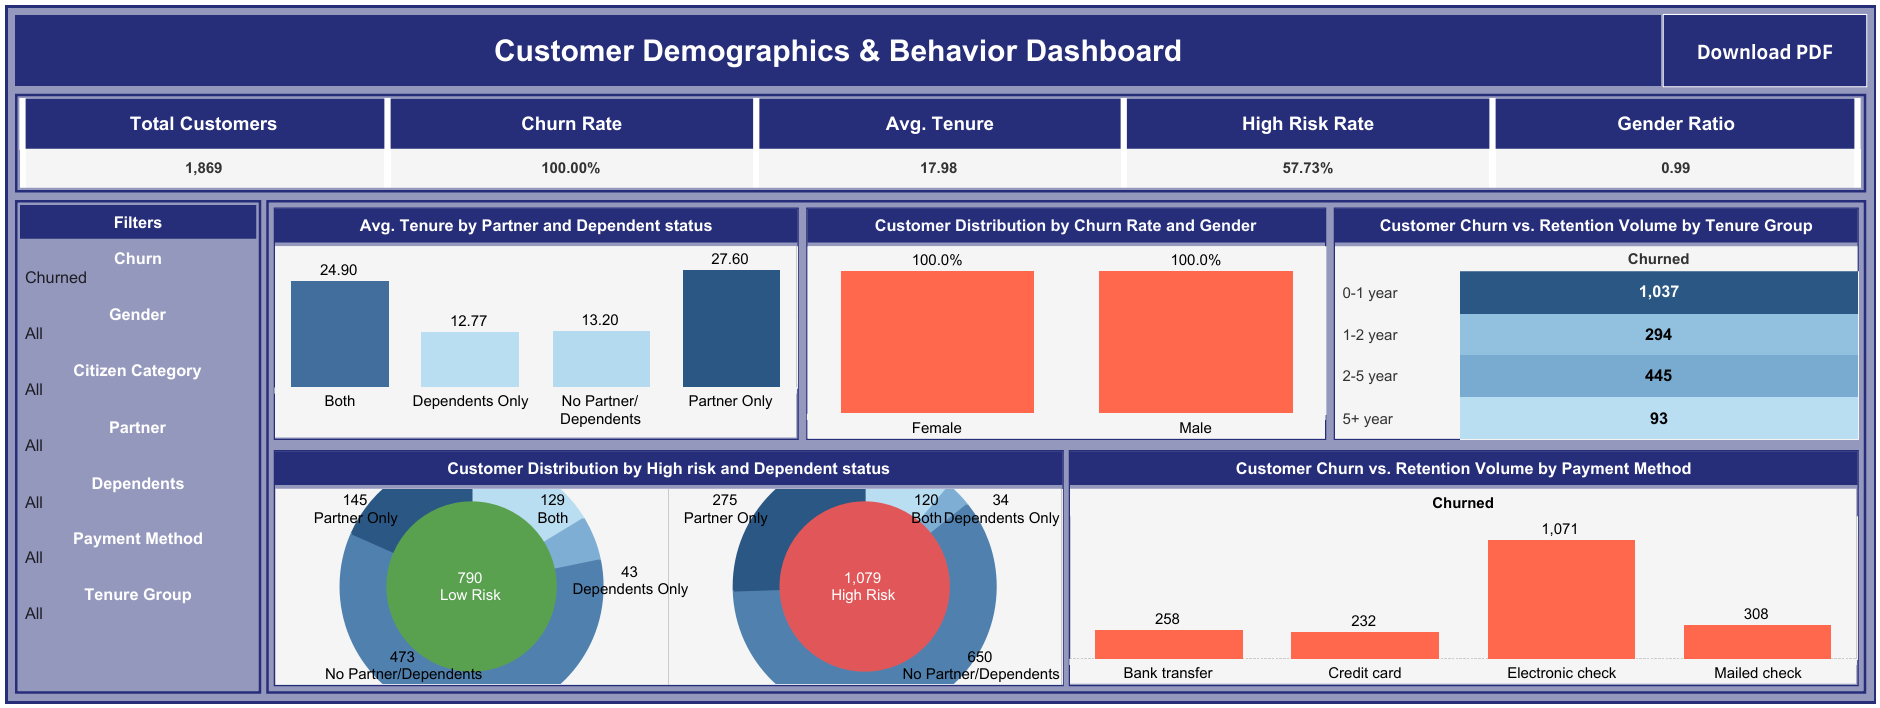

The dashboard page shown, as its layout file describes it:
{"tool":"tableau","page":{"name":"Customer Demographics & Behavior Dashboard","canvas":[1000,1000],"units":"permille","ordinal":0},"visuals":[{"type":"text","box":[6.6,12.9,887.8,69.3]},{"type":"dashboard-object","box":[894.4,12.9,99,69.3]},{"type":"worksheet","title":"Demographic KPIs","mark":"Automatic","box":[3.6,88.1,992.8,92.8]},{"type":"worksheet","title":" Demographic Filters","mark":"Automatic","box":[8.4,190.4,116.5,37.7]},{"type":"worksheet","title":"Avg. Tenure by Partner and Dependent status","mark":"Bar","rows":["tenure"],"cols":["Calculation_1014717340810600450"],"box":[131,192.7,286.7,390.1]},{"type":"worksheet","title":"Customer Distribution by Churn Rate and Gender","mark":"Automatic","cols":["gender"],"box":[417.6,192.7,286.7,390.1]},{"type":"worksheet","title":"Customer Churn vs. Retention Volume by Tenure Group","mark":"Square","rows":["TenureGroup"],"cols":["Calculation_1014717340783988736"],"box":[704.3,192.7,286.1,390.1]},{"type":"filter","title":" Demographic Filters","param":"[federated.0yk2zxe06brdsj1cgydwg0hetu3l].[none:Calculation_1014717340783988736:n","box":[8.4,228.1,116.5,75.5]},{"type":"filter","title":" Demographic Filters","param":"[federated.0yk2zxe06brdsj1cgydwg0hetu3l].[none:gender:nk]","box":[8.4,303.6,116.5,75.5]},{"type":"filter","title":" Demographic Filters","param":"[federated.0yk2zxe06brdsj1cgydwg0hetu3l].[none:Calculation_1447062903165952009:n","box":[8.4,379.2,116.5,75.5]},{"type":"filter","title":" Demographic Filters","param":"[federated.0yk2zxe06brdsj1cgydwg0hetu3l].[none:Partner:nk]","box":[8.4,454.7,116.5,75.5]},{"type":"filter","title":" Demographic Filters","param":"[federated.0yk2zxe06brdsj1cgydwg0hetu3l].[none:Dependents:nk]","box":[8.4,530.2,116.5,75.5]},{"type":"worksheet","title":"Customer Distribution by High risk and Dependent status","mark":"Pie","rows":["Calculation_1014717340790140929","Calculation_1014717340790140929"],"cols":["HighRisk"],"box":[131,587.5,429.7,393.7]},{"type":"worksheet","title":"Customer Churn vs. Retention Volume by Payment Method","mark":"Automatic","rows":["customerID"],"cols":["Calculation_1014717340783988736","PaymentMethod"],"box":[560.6,587.5,429.7,393.7]},{"type":"filter","title":" Demographic Filters","param":"[federated.0yk2zxe06brdsj1cgydwg0hetu3l].[none:PaymentMethod:nk]","box":[8.4,605.8,116.5,75.5]},{"type":"filter","title":" Demographic Filters","param":"[federated.0yk2zxe06brdsj1cgydwg0hetu3l].[none:TenureGroup:nk]","box":[8.4,681.4,116.5,75.5]},{"type":"blank","box":[8.4,756.9,116.5,75.5]},{"type":"blank","box":[8.4,832.5,116.5,75.5]},{"type":"blank","box":[8.4,908,116.5,75.5]}]}

Visuals, with their boxes on the dashboard's canvas, which has no fixed pixel size, in thousandths of its width and height (x1, y1, x2, y2). These are canvas units, not pixel positions in the 1880x708 screenshot, which may show the page scaled, cropped or inside an application window:
text: locate(7, 13, 894, 82)
dashboard-object: locate(894, 13, 993, 82)
"Demographic KPIs" worksheet: locate(4, 88, 996, 181)
" Demographic Filters" worksheet: locate(8, 190, 125, 228)
"Avg. Tenure by Partner and Dependent status" worksheet (Bar marks): locate(131, 193, 418, 583)
"Customer Distribution by Churn Rate and Gender" worksheet: locate(418, 193, 704, 583)
"Customer Churn vs. Retention Volume by Tenure Group" worksheet (Square marks): locate(704, 193, 990, 583)
" Demographic Filters" filter: locate(8, 228, 125, 304)
" Demographic Filters" filter: locate(8, 304, 125, 379)
" Demographic Filters" filter: locate(8, 379, 125, 455)
" Demographic Filters" filter: locate(8, 455, 125, 530)
" Demographic Filters" filter: locate(8, 530, 125, 606)
"Customer Distribution by High risk and Dependent status" worksheet (Pie marks): locate(131, 588, 561, 981)
"Customer Churn vs. Retention Volume by Payment Method" worksheet: locate(561, 588, 990, 981)
" Demographic Filters" filter: locate(8, 606, 125, 681)
" Demographic Filters" filter: locate(8, 681, 125, 757)
blank: locate(8, 757, 125, 832)
blank: locate(8, 832, 125, 908)
blank: locate(8, 908, 125, 984)
